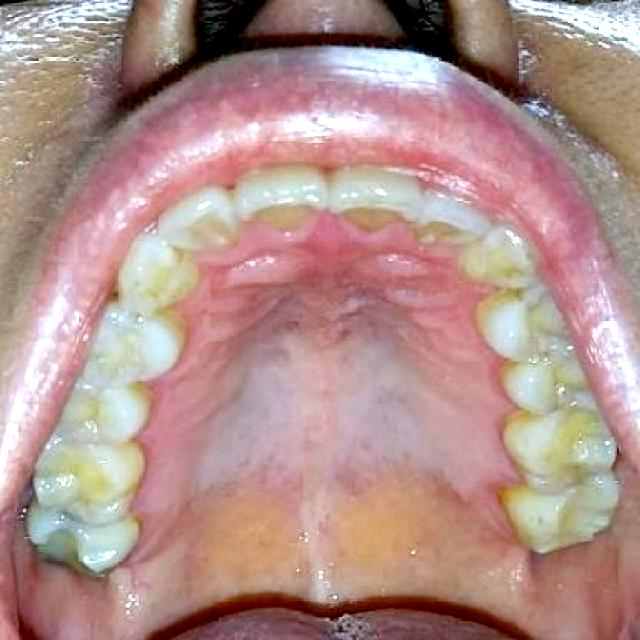Plaque: (503, 411, 525, 480), (130, 443, 151, 502), (126, 520, 142, 552), (506, 290, 527, 310), (501, 359, 513, 390)
